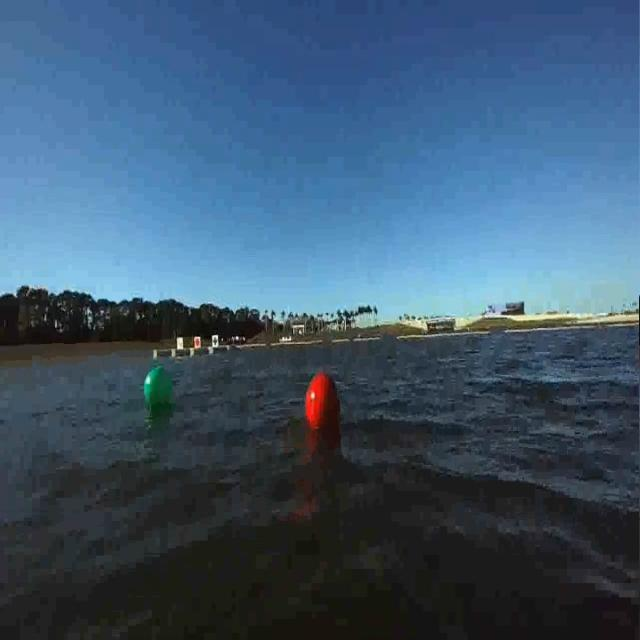green-buoy: (140, 372, 181, 418)
red-buoy: (301, 371, 346, 448)
